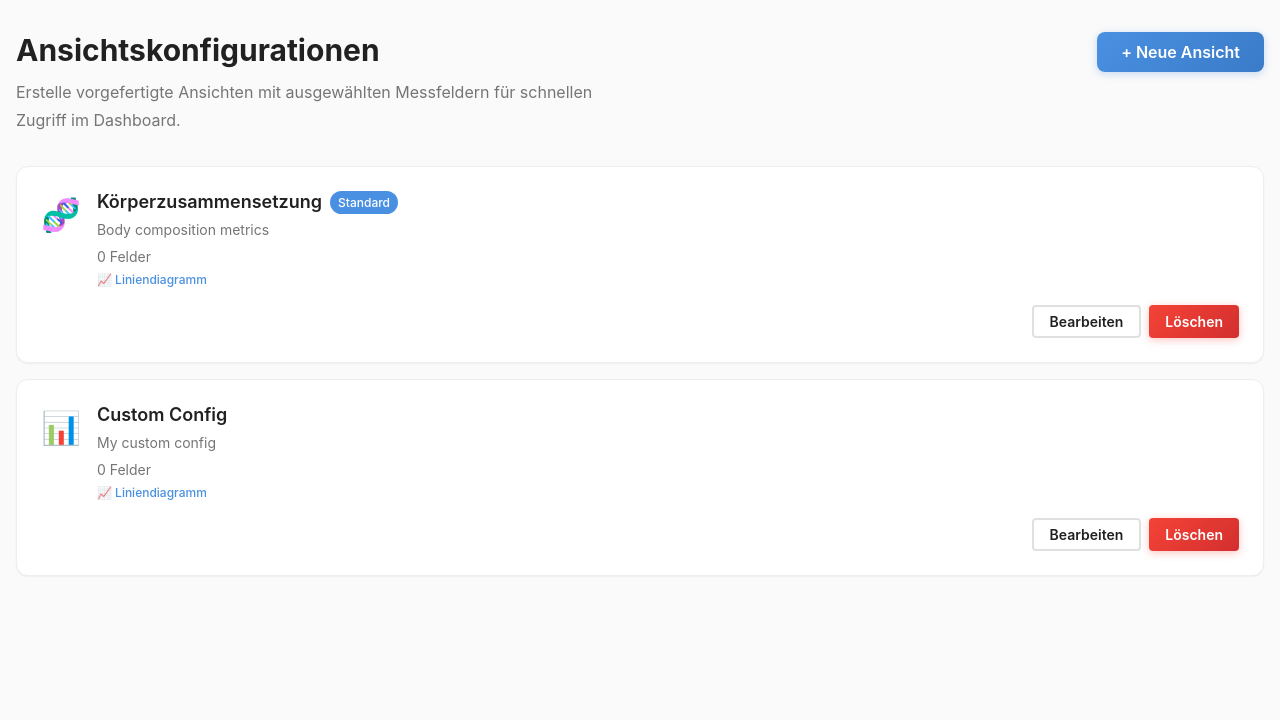
it: ViewConfigsPage Component › Field Selection › should show message when no fields available
Click the button "+ Neue Ansicht" at (1181, 52), box [1097,32,1264,72]
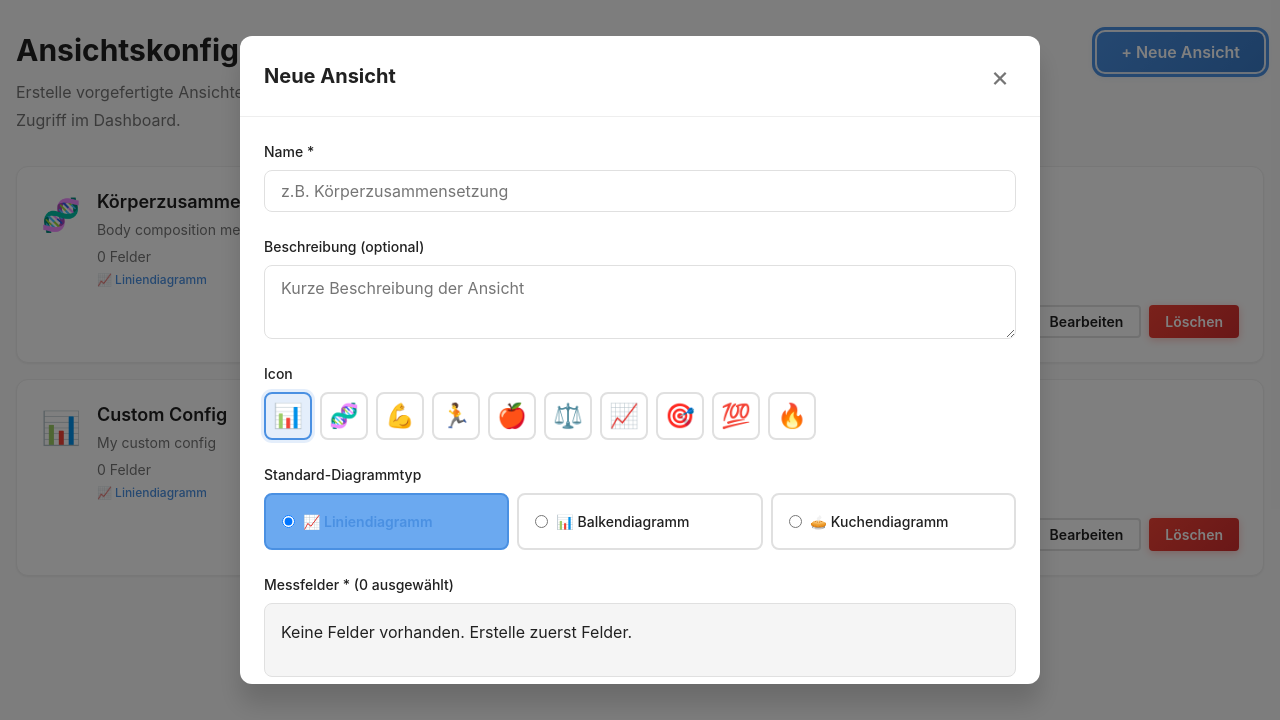
Check: the text "Keine Felder vorhanden. Erstelle zuerst Felder." is shown, box [281,622,632,642]
